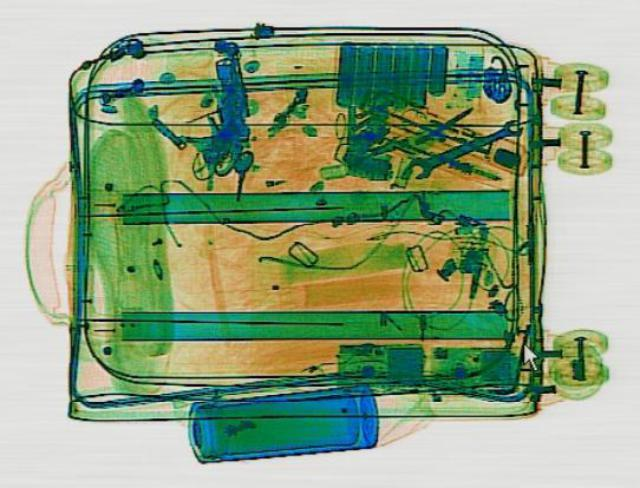Wrench: (398, 113, 528, 180)
